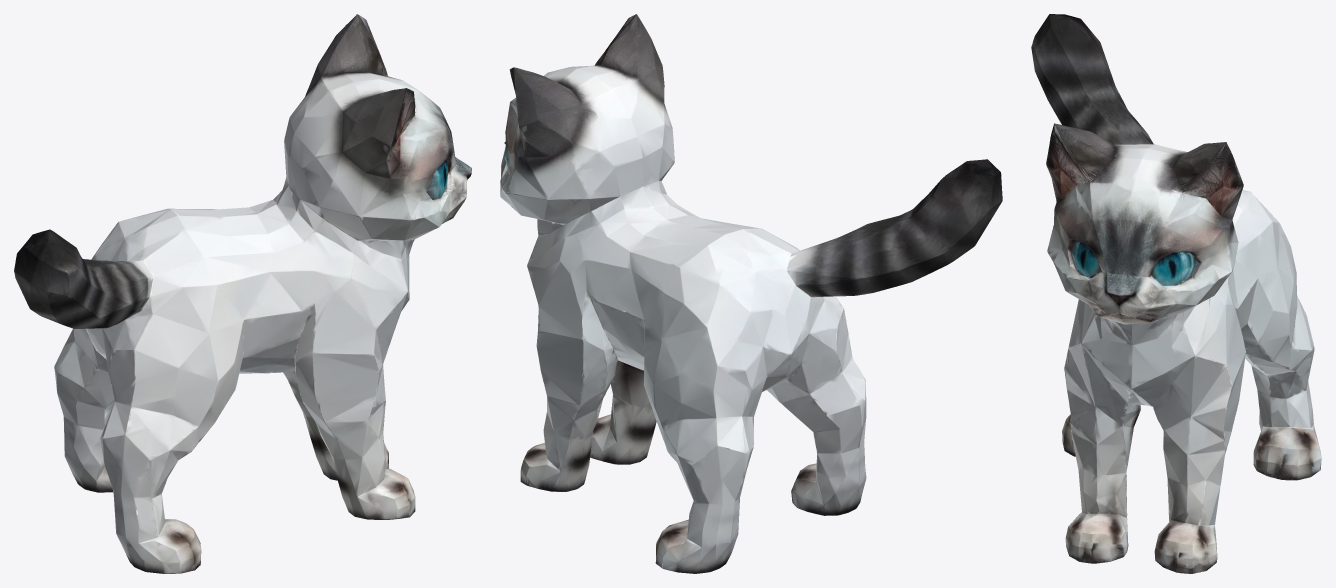
File: ICICLEPAW.glb
3 views of the same model, side by side, from view 1: azimuth 30°, elevation 25°; view 2: azimuth 150°, elevation 25°; view 3: azimuth 270°, elevation 25° (orthographic). The views are drawn at different scales.
Parts seen in each view (by area): view 1: fit; view 2: fit; view 3: fit.
Boxes of the visible parts, x1,y1,x2,y2 form: fit: (14, 14, 471, 573); fit: (500, 14, 1002, 573); fit: (1031, 14, 1321, 573).
Size of the model in its own units: 1.14 by 1 by 0.6143.
1 material, 1 textured.
